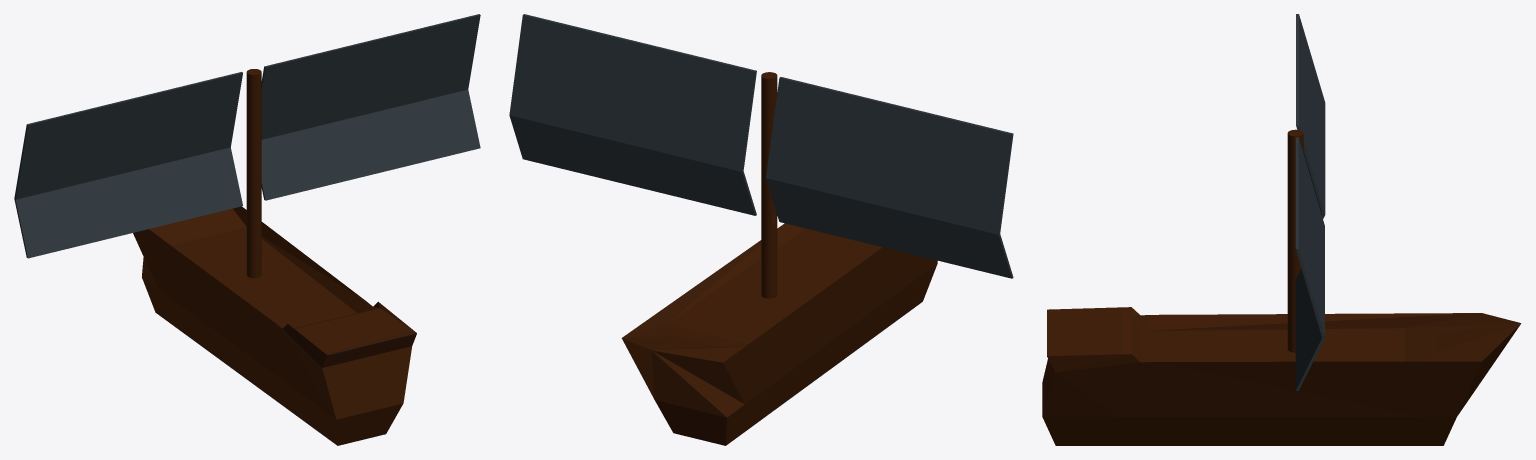
The model's file is boat.obj.
The picture shows the model from 3 angles, left to right: view 1: azimuth 30°, elevation 25°; view 2: azimuth 150°, elevation 25°; view 3: azimuth 270°, elevation 25°; orthographic projection. The views are drawn at different scales.
Parts seen in each view (by area): view 1: Cube.001; view 2: Cube.001; view 3: Cube.001.
Part boxes in pixels (x1,y1,x2,y2): Cube.001: (14, 14, 480, 445); Cube.001: (509, 14, 1013, 445); Cube.001: (1042, 14, 1521, 445).
Size of the model in its own units: 8.91 by 5.38 by 7.68.
